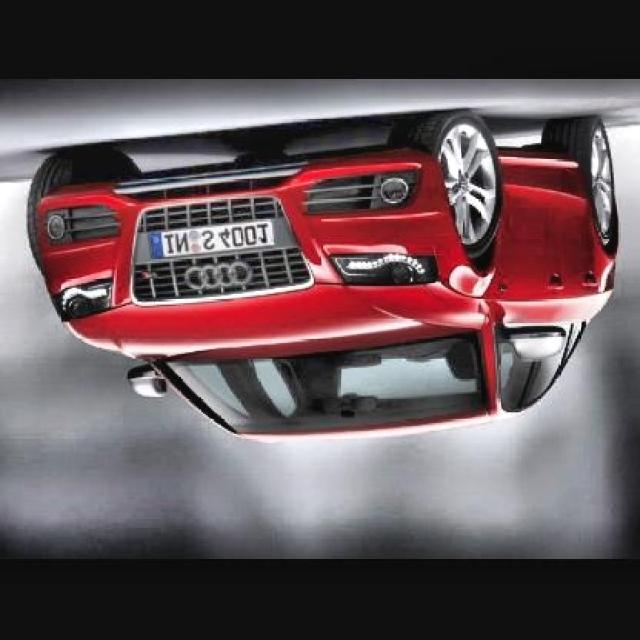red: (27, 113, 618, 443)
